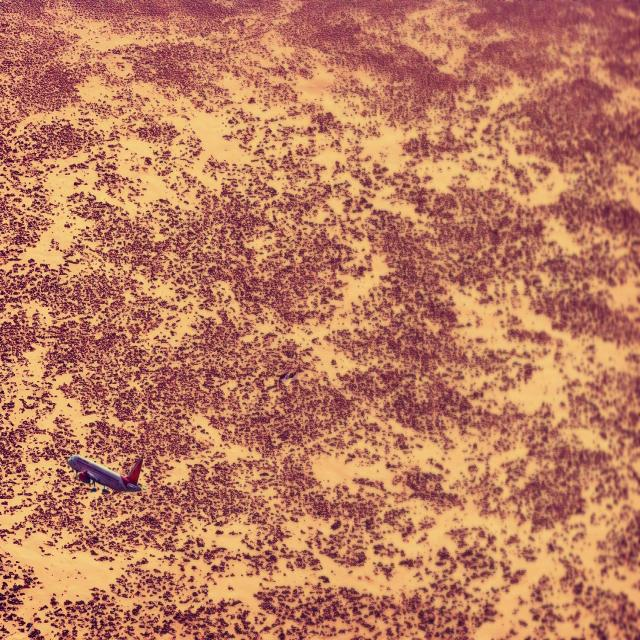airplane: (67, 453, 143, 494)
